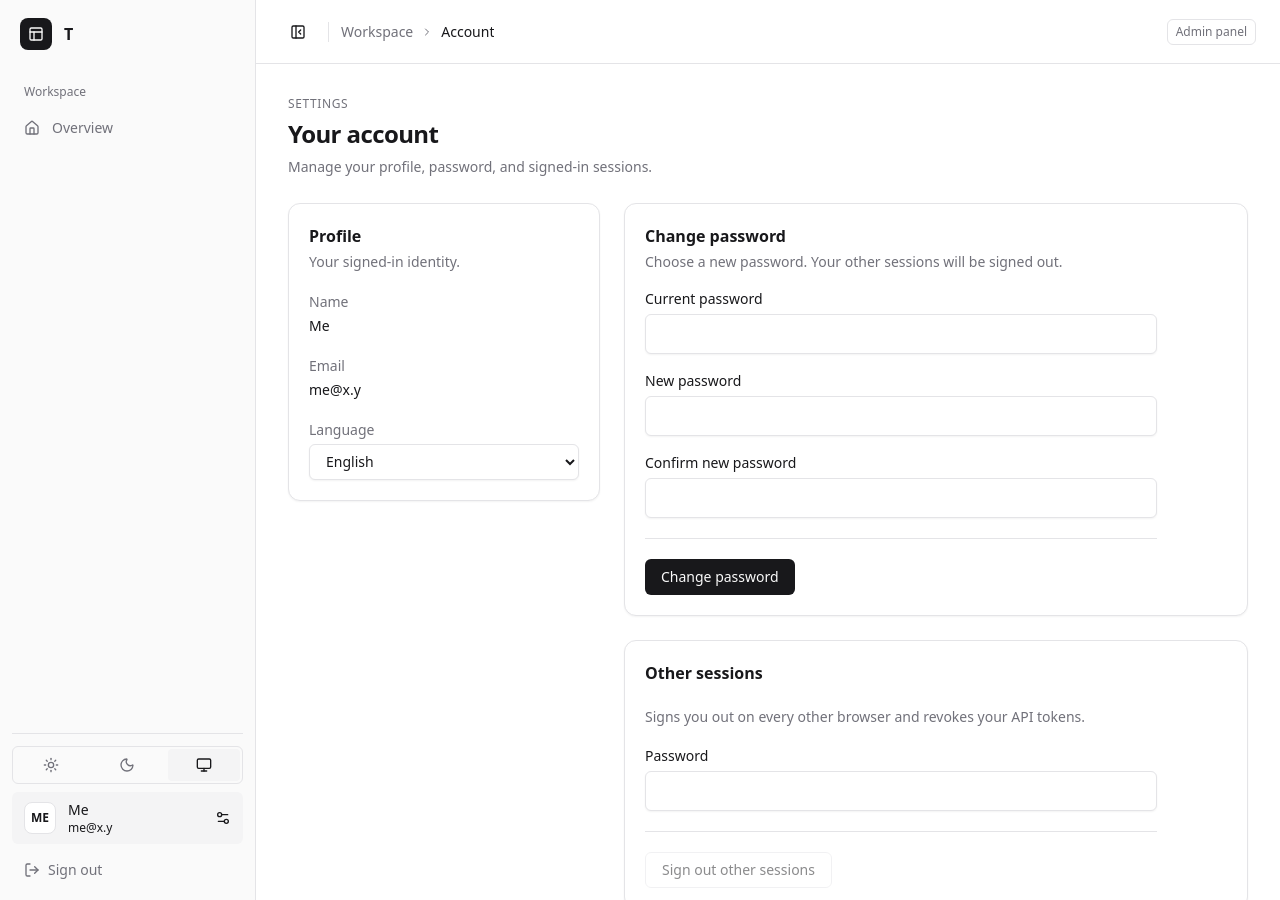
Scenario: shows form-level validation messages
This screenshot has width=1280, height=900.
In the password field labelled "New password": (901, 416) [645, 396, 1157, 436], type "long enough"
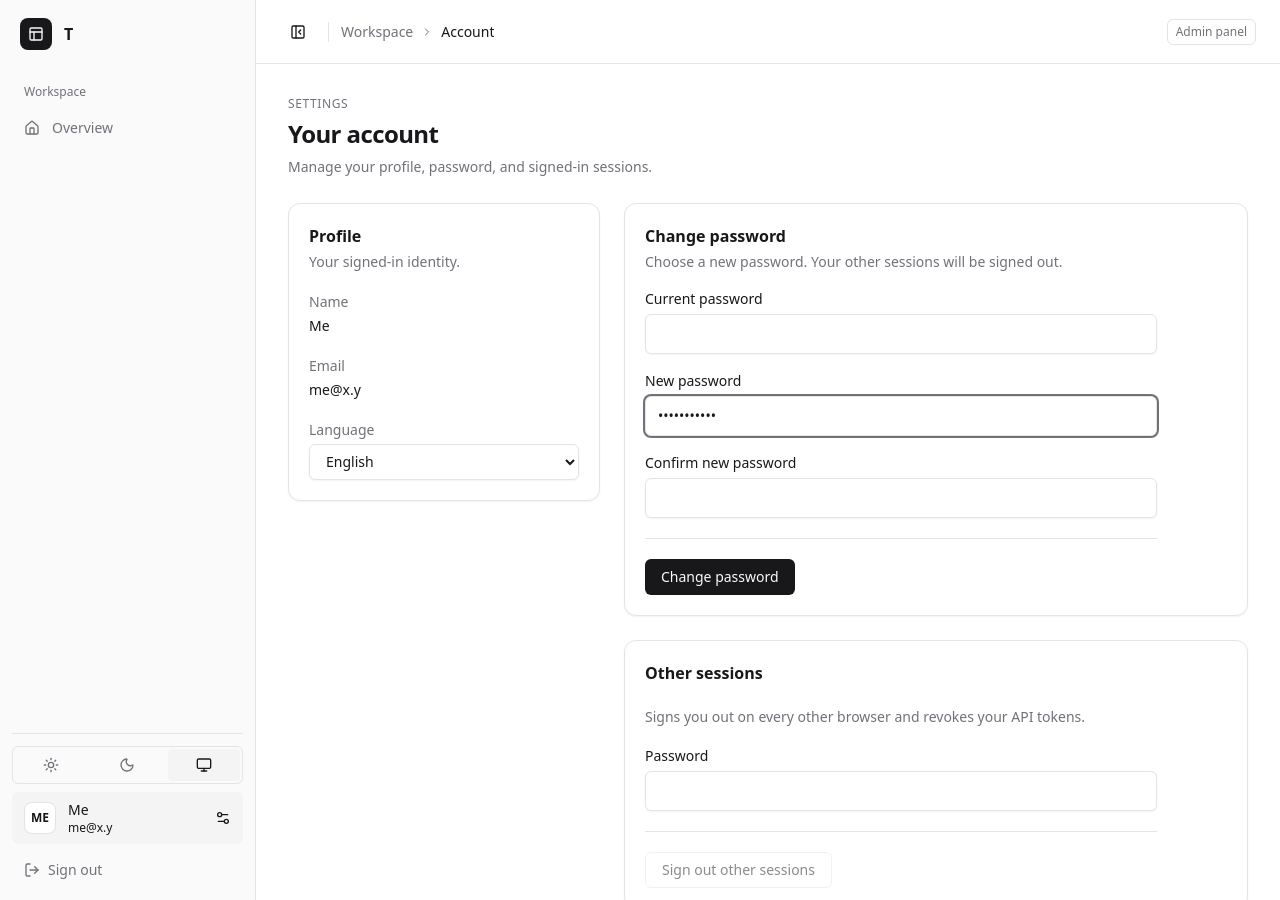
Click the button "Change password": (720, 577) [645, 559, 795, 595]
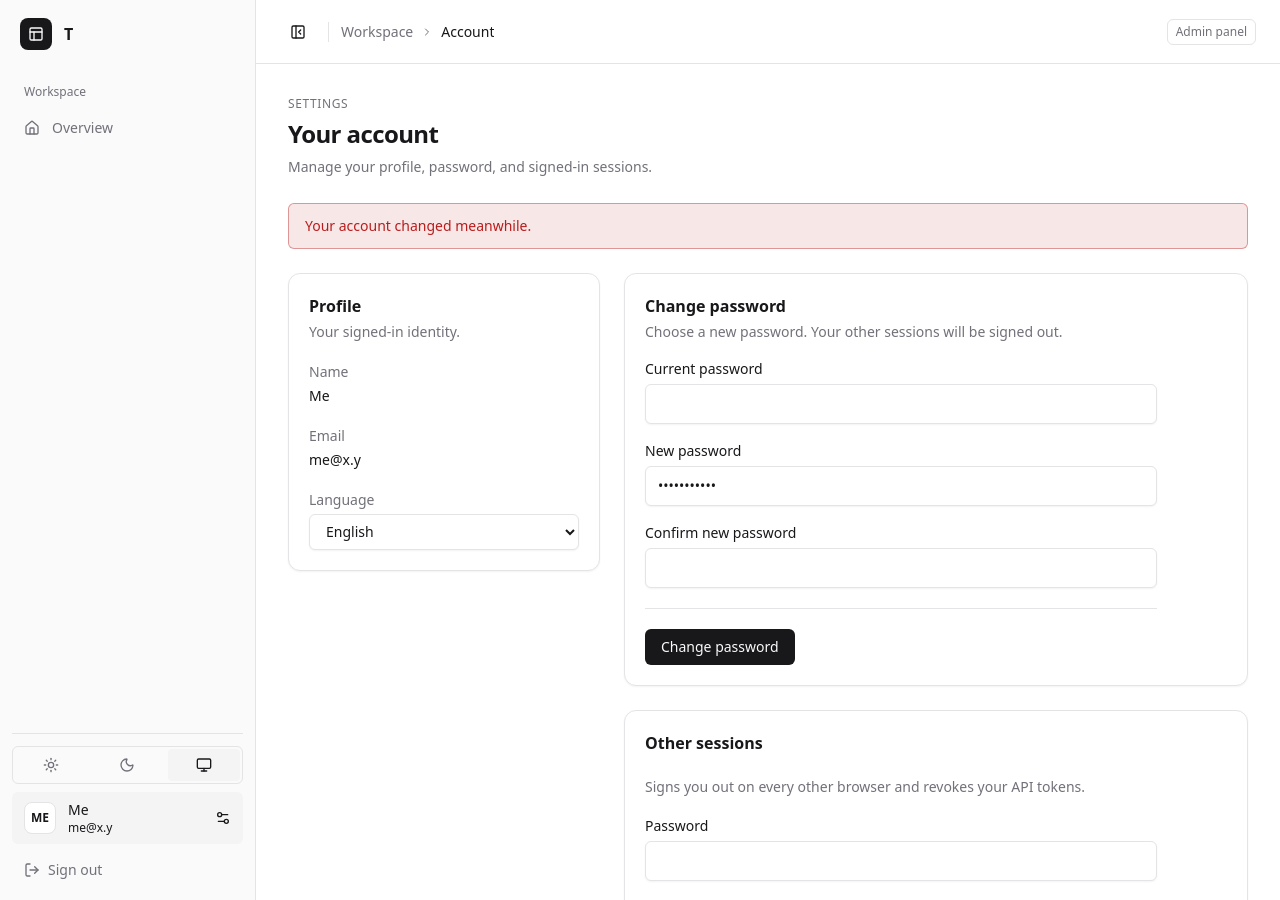
Expected: the text "Your account changed meanwhile." is shown, [288, 203, 1248, 249]
